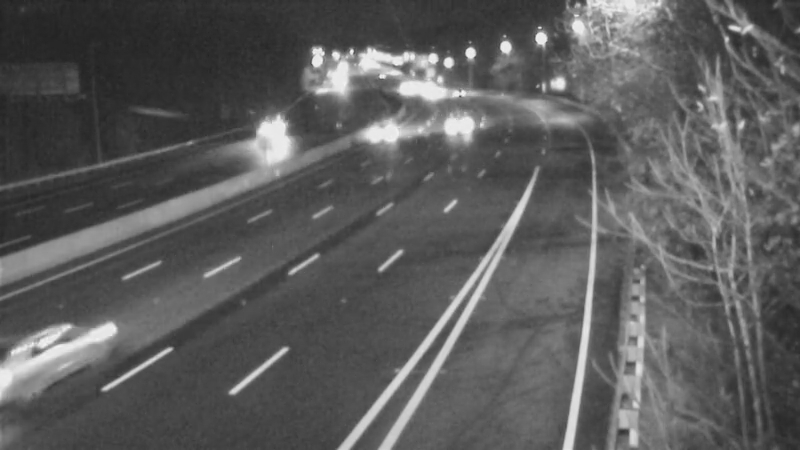vehicle: (1, 307, 110, 417), (433, 71, 483, 121), (432, 100, 482, 150), (365, 106, 415, 156), (248, 110, 298, 160)
